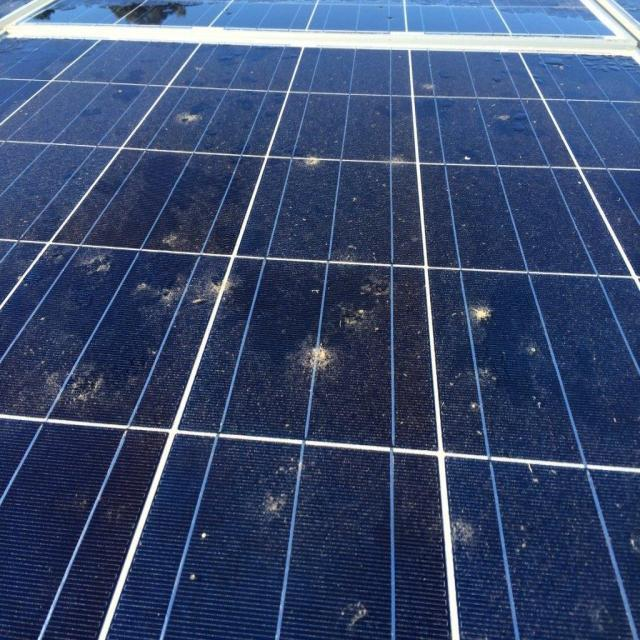Anomaly Solar Panel: (1, 38, 638, 639)
Surface Contaminant: (0, 331, 143, 442), (123, 260, 244, 318), (256, 451, 322, 526), (272, 331, 337, 388), (62, 236, 121, 287), (458, 291, 501, 332), (171, 100, 210, 132), (293, 146, 331, 176), (445, 520, 473, 540)
